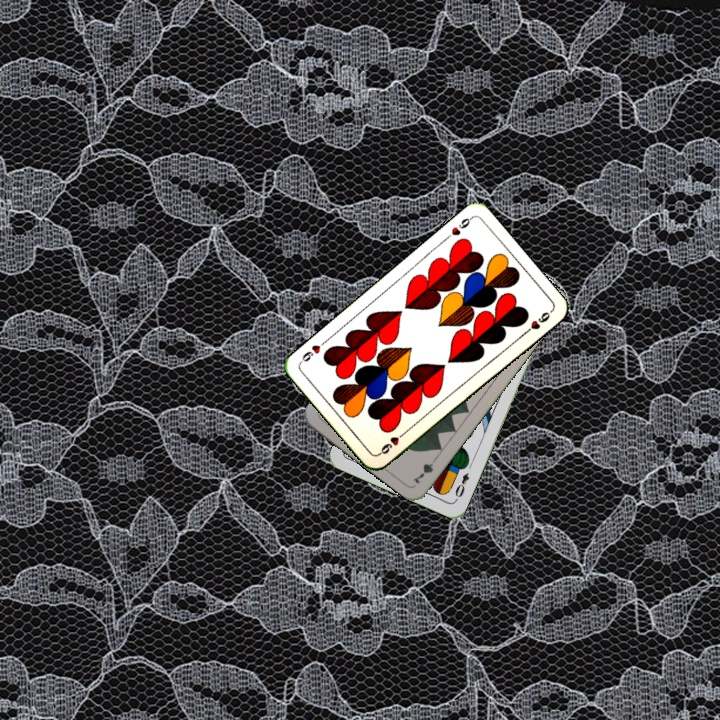EO: (451, 469, 472, 503)
G7: (409, 452, 441, 487)
H9: (440, 213, 475, 243), (375, 427, 409, 457)
